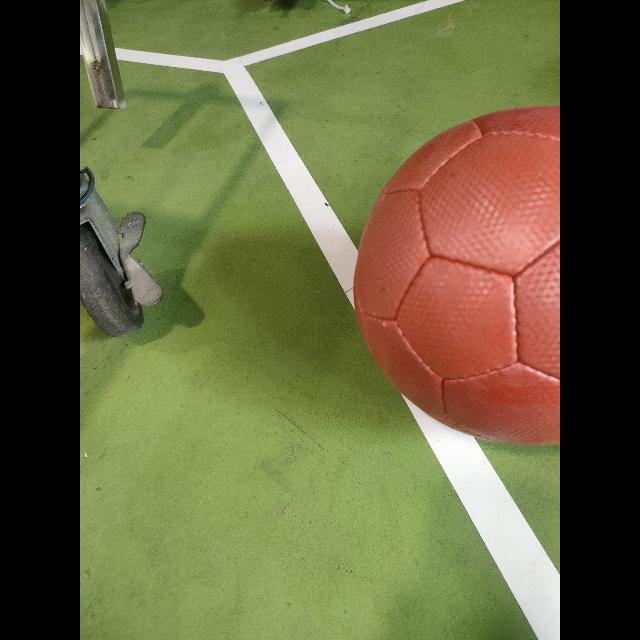R: (354, 107, 560, 445)
